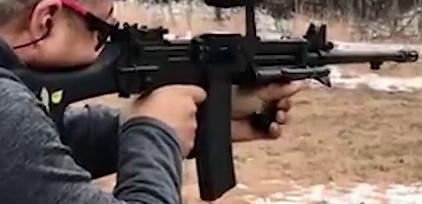gun: (1, 1, 422, 204)
